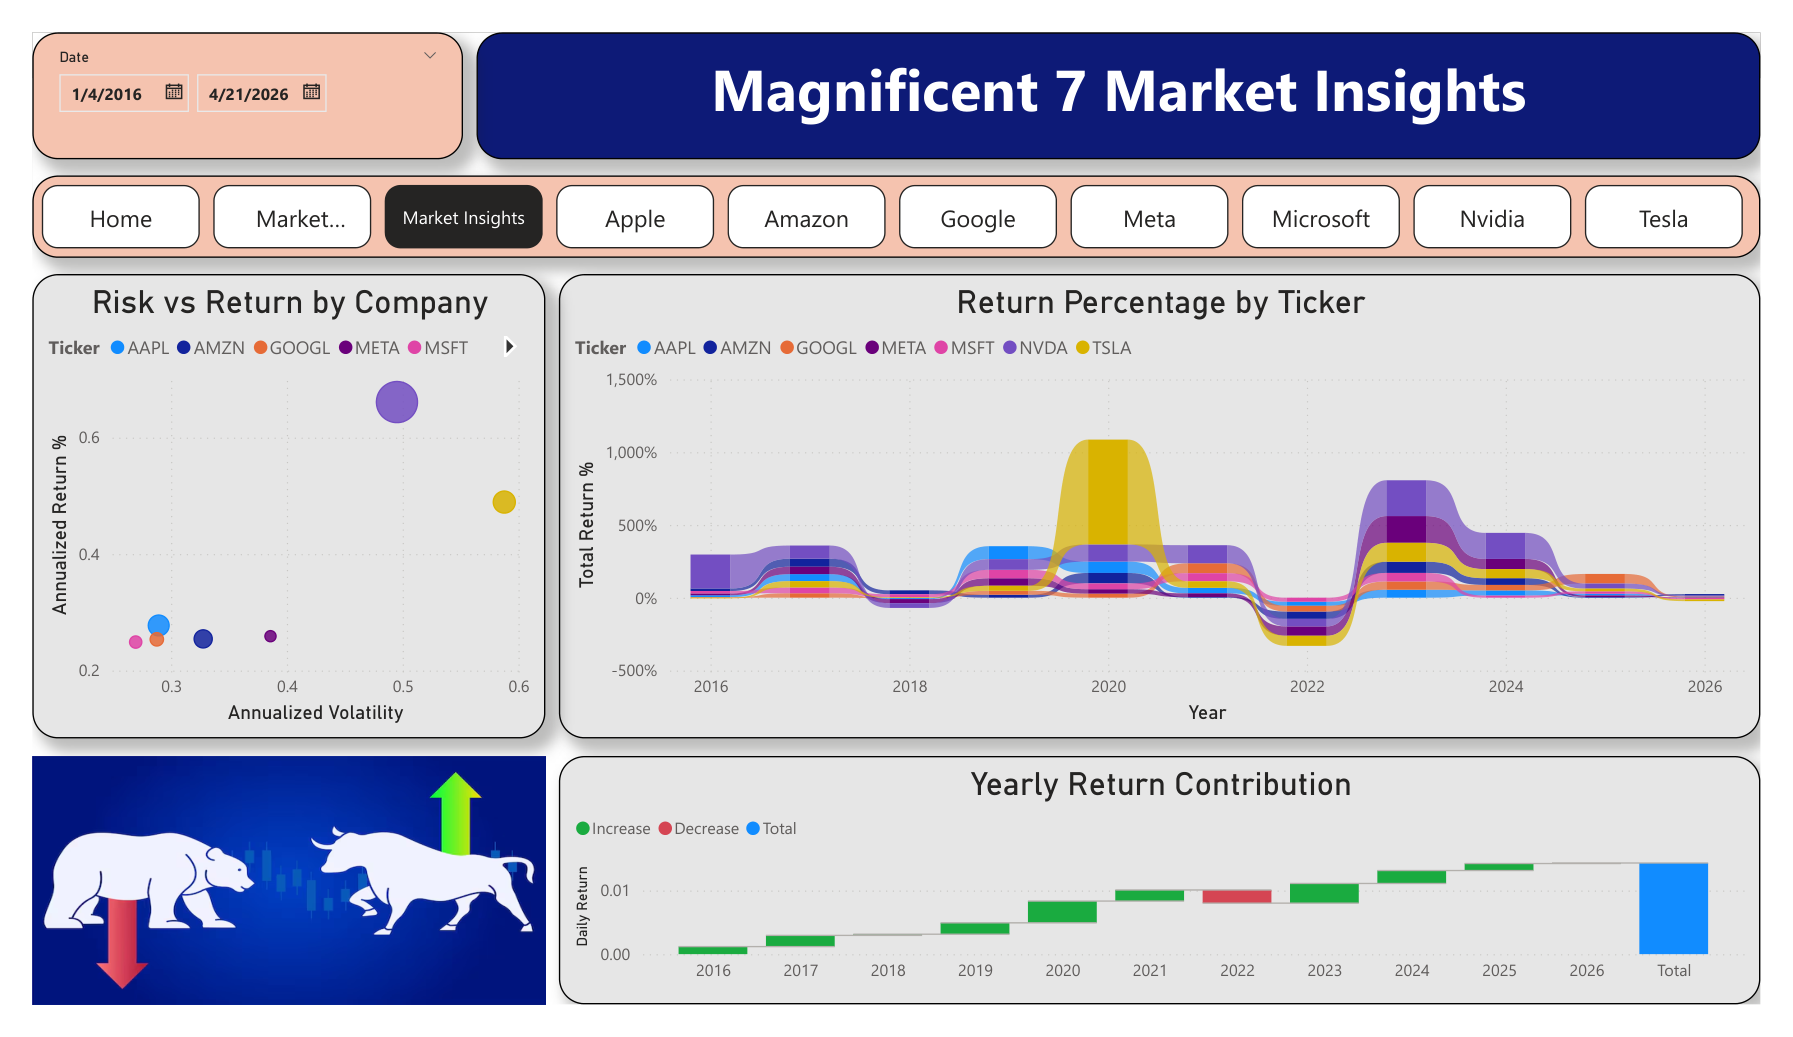

The dashboard page shown, as its layout file describes it:
{"tool":"powerbi","page":{"name":"Market Insights","canvas":[1280,720],"ordinal":2},"visuals":[{"type":"textbox","box":[328.6,0,951.4,94.3],"z":0},{"type":"slicer","fields":{"Values":["DateTable.Date"]},"box":[0,0,318.6,94.3],"z":1000},{"type":"pageNavigator","box":[0,105.7,1280,61.4],"z":2000},{"type":"ribbonChart","title":"Return Percentage by Ticker","fields":{"Series":["mag7_powerbi_ready.Ticker"],"Category":["DateTable.Year"],"Y":["mag7_powerbi_ready.Total Return %"]},"box":[390,178.8,890,343.8],"z":3000},{"type":"waterfallChart","title":"Yearly Return Contribution","fields":{"Y":["Avg(mag7_powerbi_ready.Daily_Return)"],"Category":["mag7_powerbi_ready.Month Start.Variation.Date Hierarchy.Year","mag7_powerbi_ready.Month Start.Variation.Date Hierarchy.Quarter","mag7_powerbi_ready.Month Start.Variation.Date Hierarchy.Month","mag7_powerbi_ready.Month Start.Variation.Date Hierarchy.Day"]},"box":[390,536.2,890,183.8],"z":4000},{"type":"scatterChart","title":"Risk vs Return by Company","fields":{"X":["mag7_powerbi_ready.Annualized Volatility"],"Y":["mag7_powerbi_ready.Annualized Return %"],"Series":["mag7_powerbi_ready.Ticker"],"Size":["mag7_powerbi_ready.Average Volume"]},"box":[0,178.8,380,343.8],"z":5000},{"type":"image","box":[0,536,380,184],"z":6000}]}

Visuals, with their boxes in screenshot pixels (x1, y1, x2, y2), scaled from the page's 1280x720 canvas onto the 1793x1037 screenshot:
textbox: BBox(460, 0, 1792, 136)
slicer - DateTable.Date: BBox(0, 0, 446, 136)
pageNavigator: BBox(0, 152, 1792, 241)
"Return Percentage by Ticker" ribbonChart: BBox(546, 258, 1792, 753)
"Yearly Return Contribution" waterfallChart: BBox(546, 772, 1792, 1036)
"Risk vs Return by Company" scatterChart: BBox(0, 258, 532, 753)
image: BBox(0, 772, 532, 1036)
